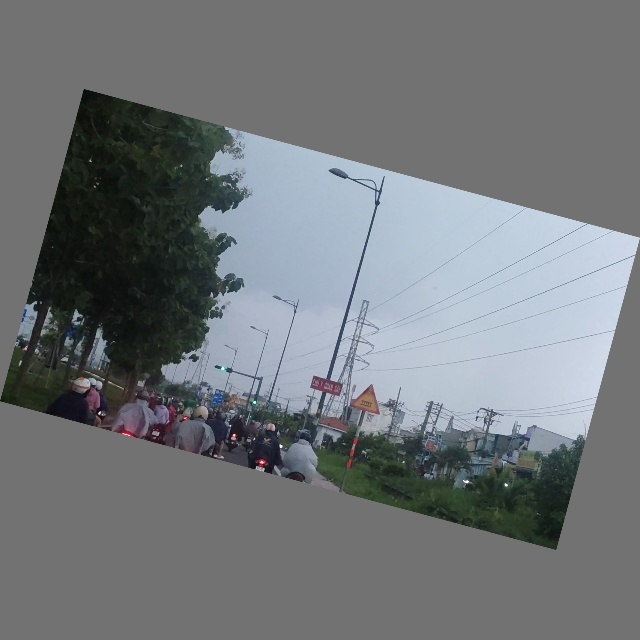W.210: (350, 381, 387, 417)
